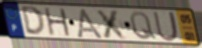A: (75, 7, 106, 41)
D: (20, 5, 47, 38)
H: (43, 7, 73, 38)
Q: (128, 10, 158, 41)
U: (152, 11, 180, 43)
X: (95, 8, 130, 41)
